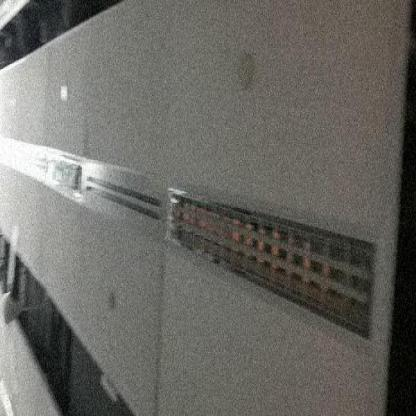light_off: (166, 174, 388, 359), (42, 142, 88, 212)
